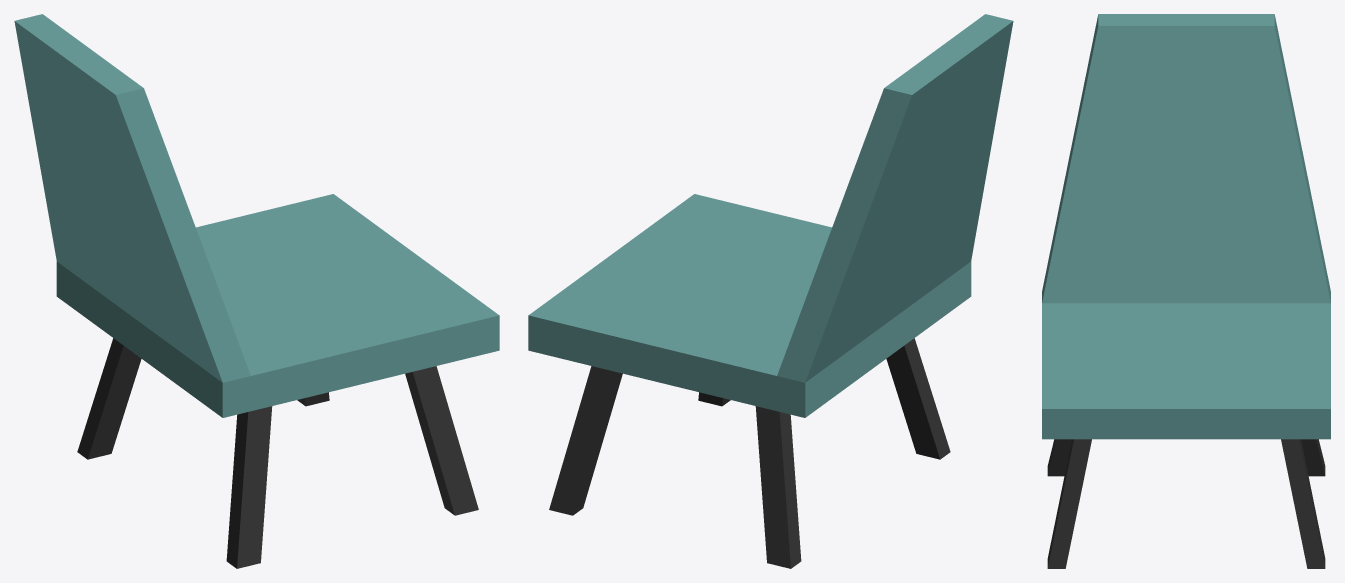
File: Chair.glb
3 views of the same model, side by side, from view 1: azimuth 30°, elevation 25°; view 2: azimuth 150°, elevation 25°; view 3: azimuth 270°, elevation 25° (orthographic). The views are drawn at different scales.
Parts seen in each view (by area): view 1: Chair; view 2: Chair; view 3: Chair.
Part boxes in pixels (x1,y1,x2,y2): Chair: (14,14,499,568); Chair: (528,14,1013,568); Chair: (1042,14,1330,568).
Bounding box in the file's own units: 0.7669 × 0.9906 × 0.6275.
